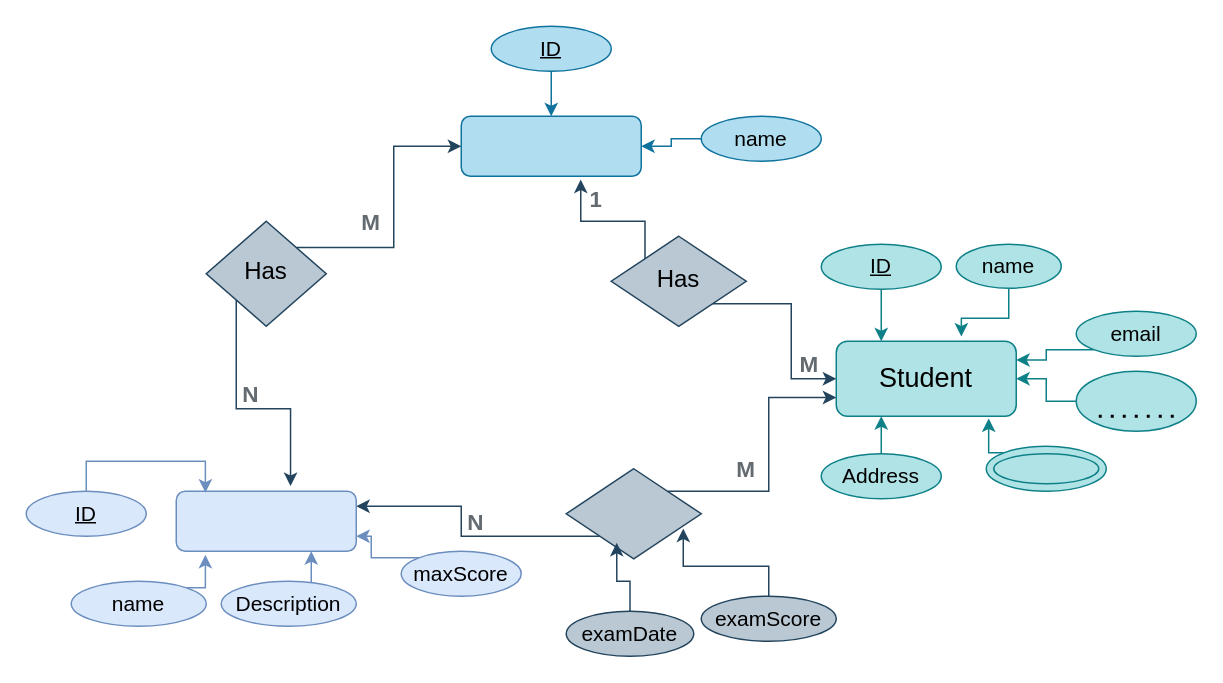
This 1223x683 diagram has some shape labels left out. The box of each missing label's shape, as (x1, y1, x2, y2) in pixels:
Courses: (175, 490, 356, 551)
phone: (992, 452, 1099, 484)
Study: (565, 467, 701, 559)
Track: (460, 115, 641, 176)
trackId: (1075, 370, 1196, 431)
